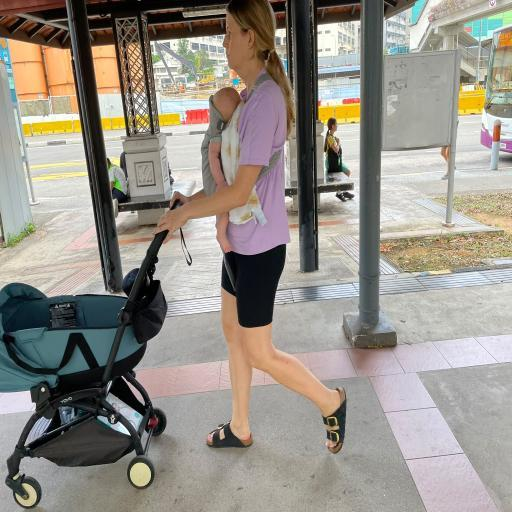person_left: (0, 1, 314, 494)
